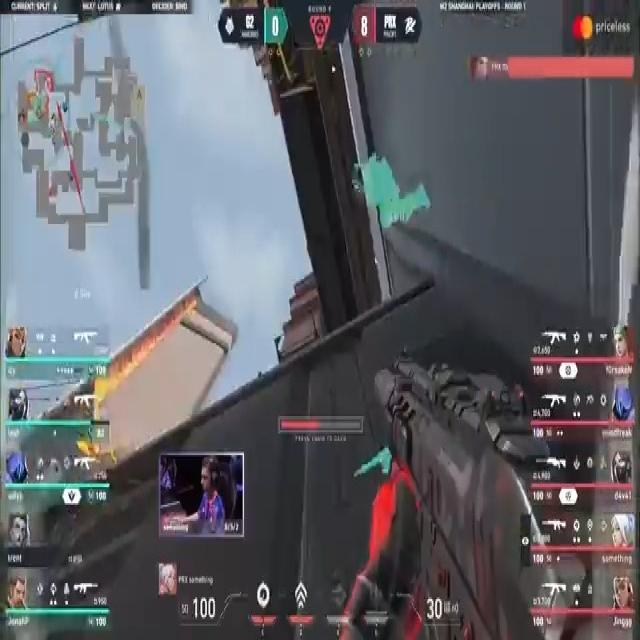ally behind wall: (351, 138, 431, 240)
